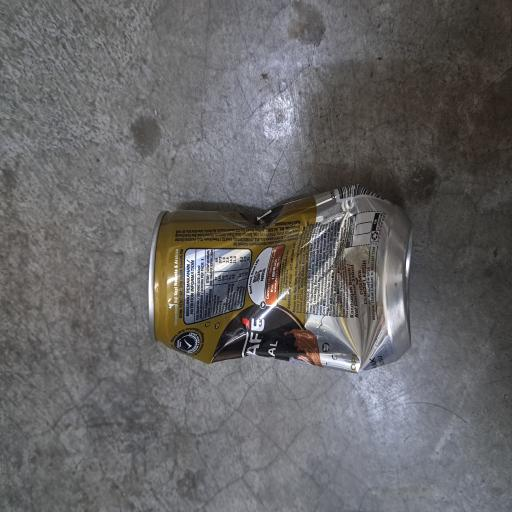can: (105, 192, 246, 512)
